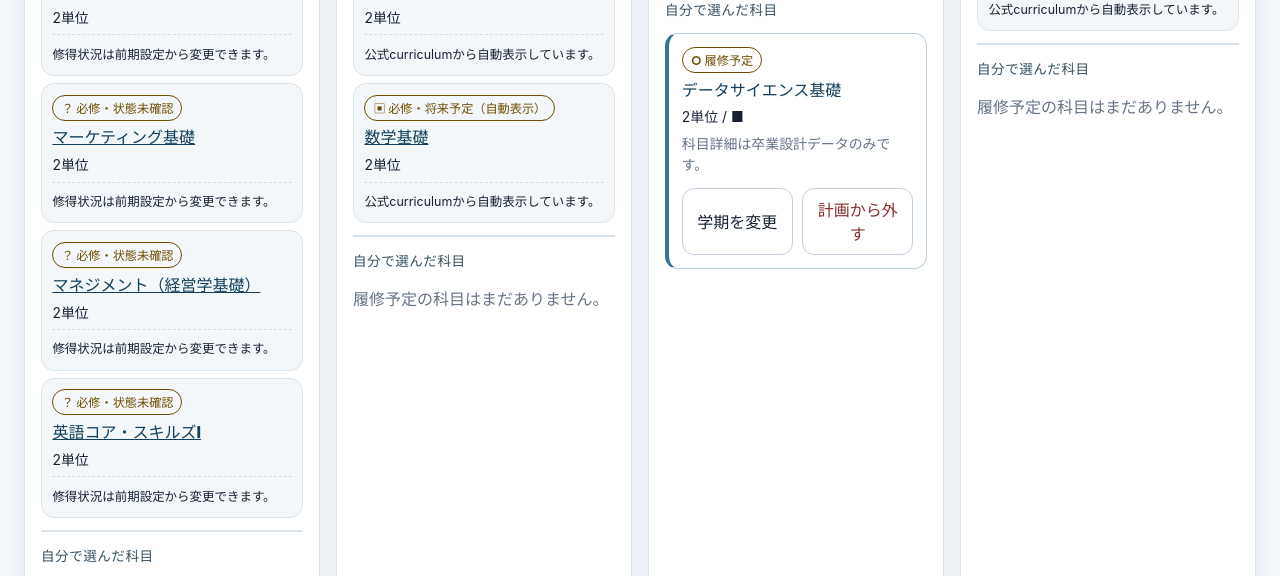
it: Phase 11 graduation plan UI › planned科目を移動してから削除できる
(page scrolled)
Click the button "学期を変更" at coordinates (737, 221), box [682, 188, 793, 255]
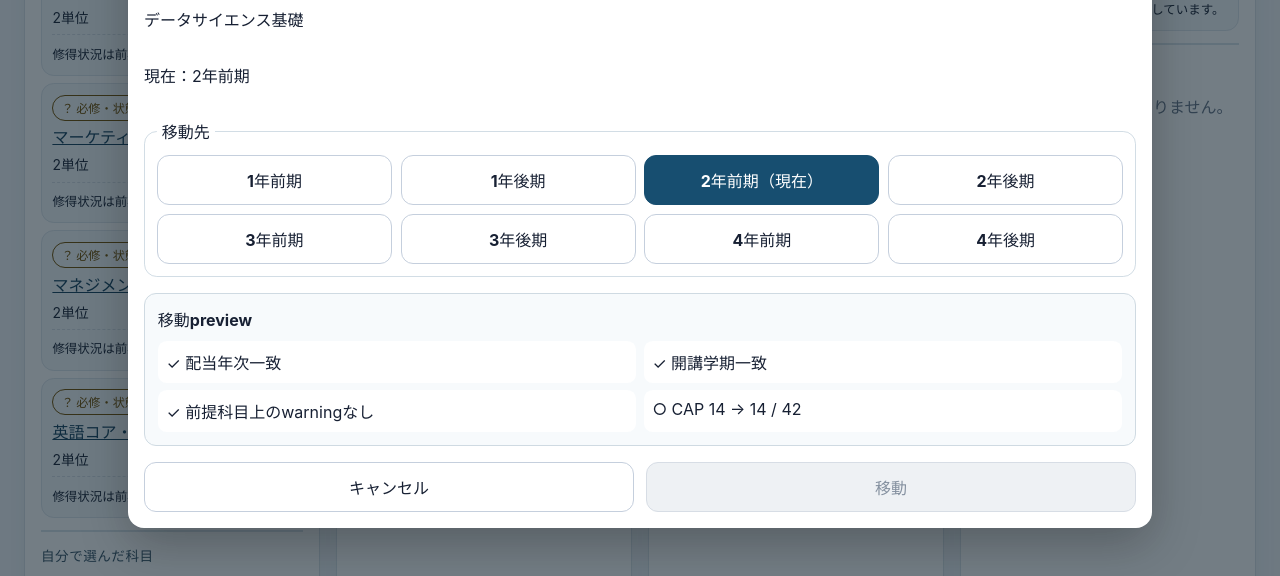
Click the button "2年後期" at coordinates (1006, 180), box [888, 156, 1123, 206]
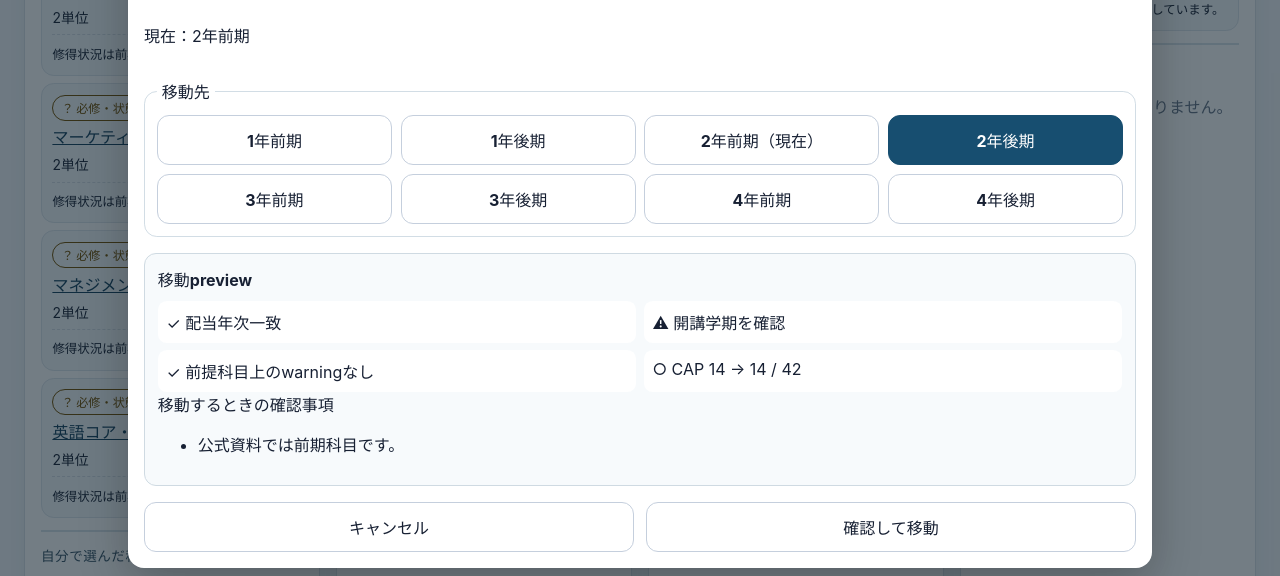
Click the button "確認して移動" at coordinates (891, 527), box [646, 502, 1136, 552]
(page scrolled)
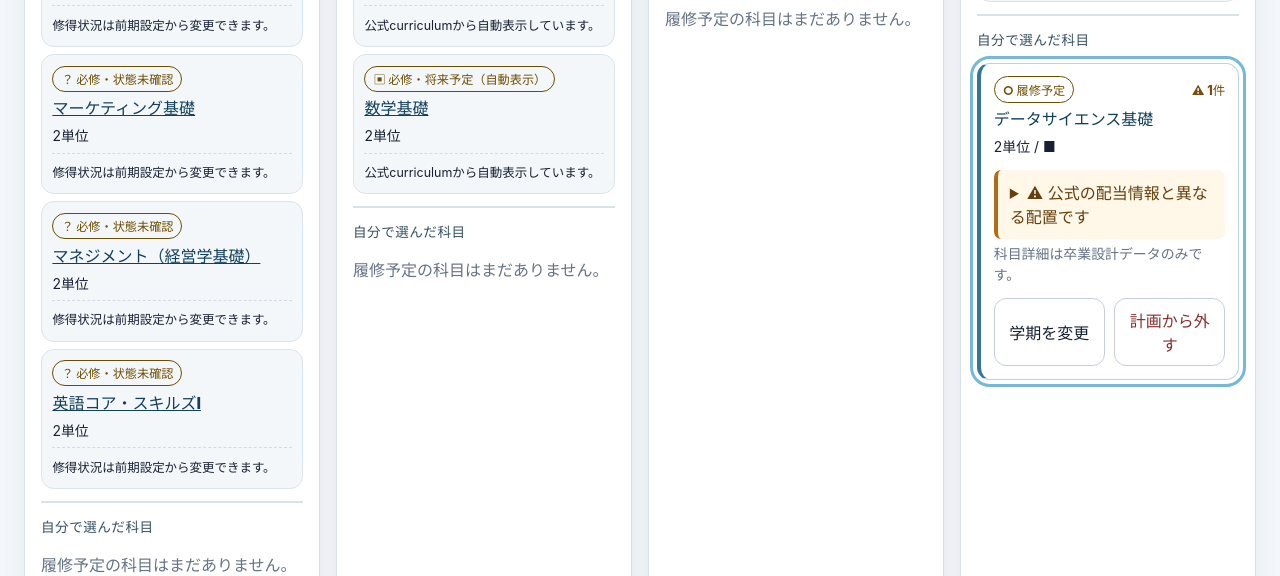
Check: the text "データサイエンス基礎" is shown, box [994, 109, 1153, 129]
Click the button "計画から外す" at coordinates (1170, 332), box [1114, 298, 1225, 366]
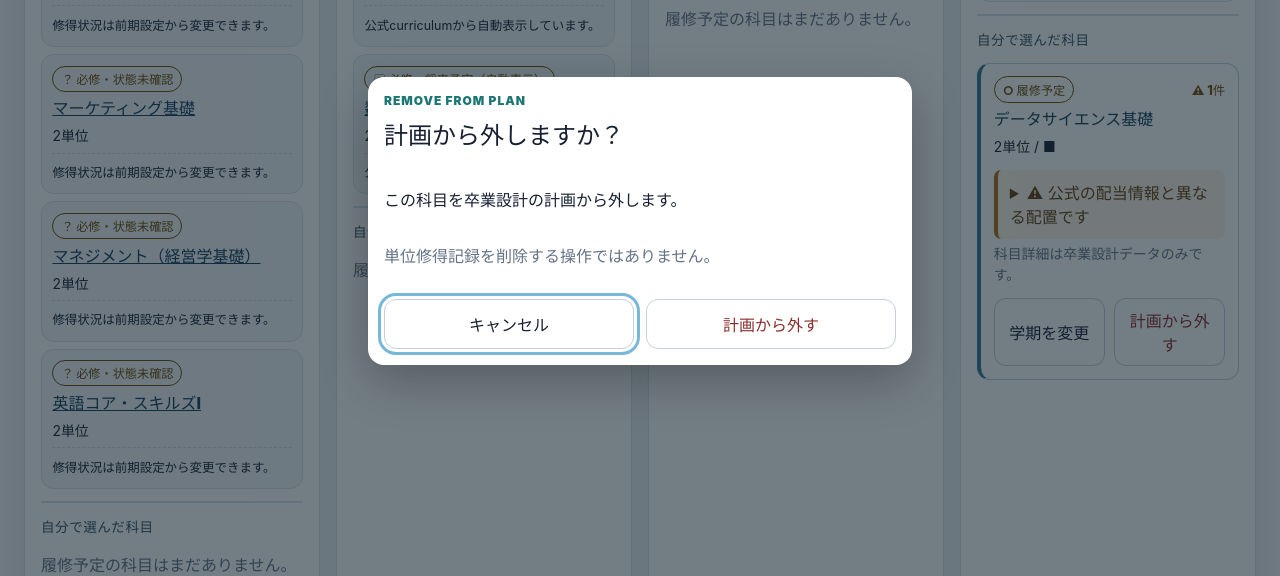
Click the button "計画から外す" at coordinates (771, 324), box [646, 298, 896, 348]
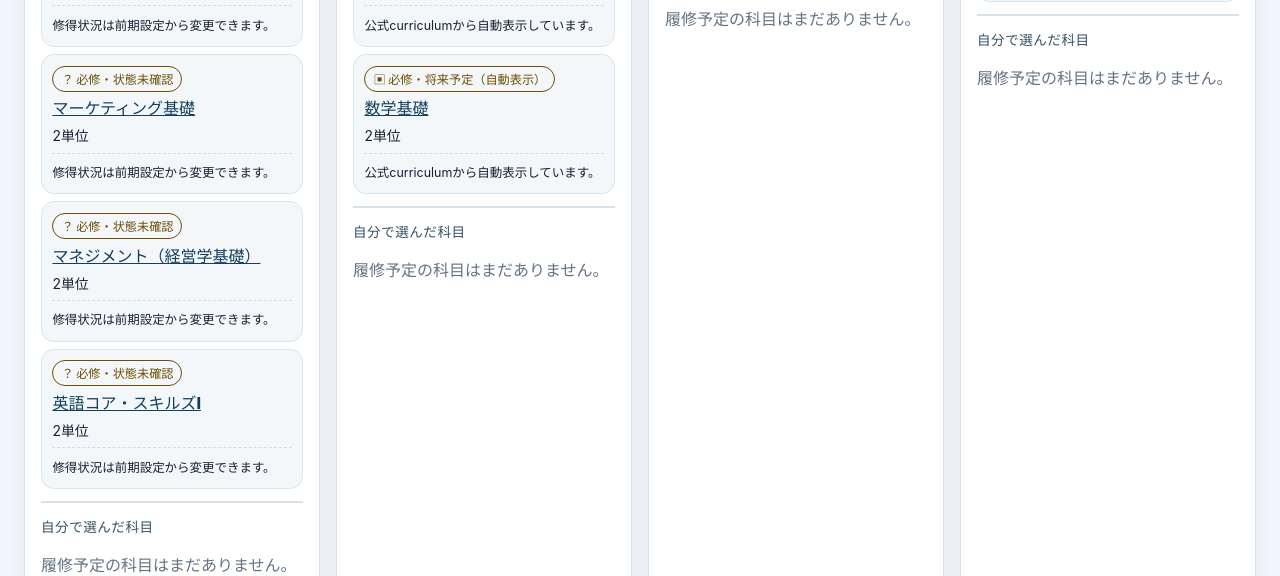
Check: the text "データサイエンス基礎" is gone
